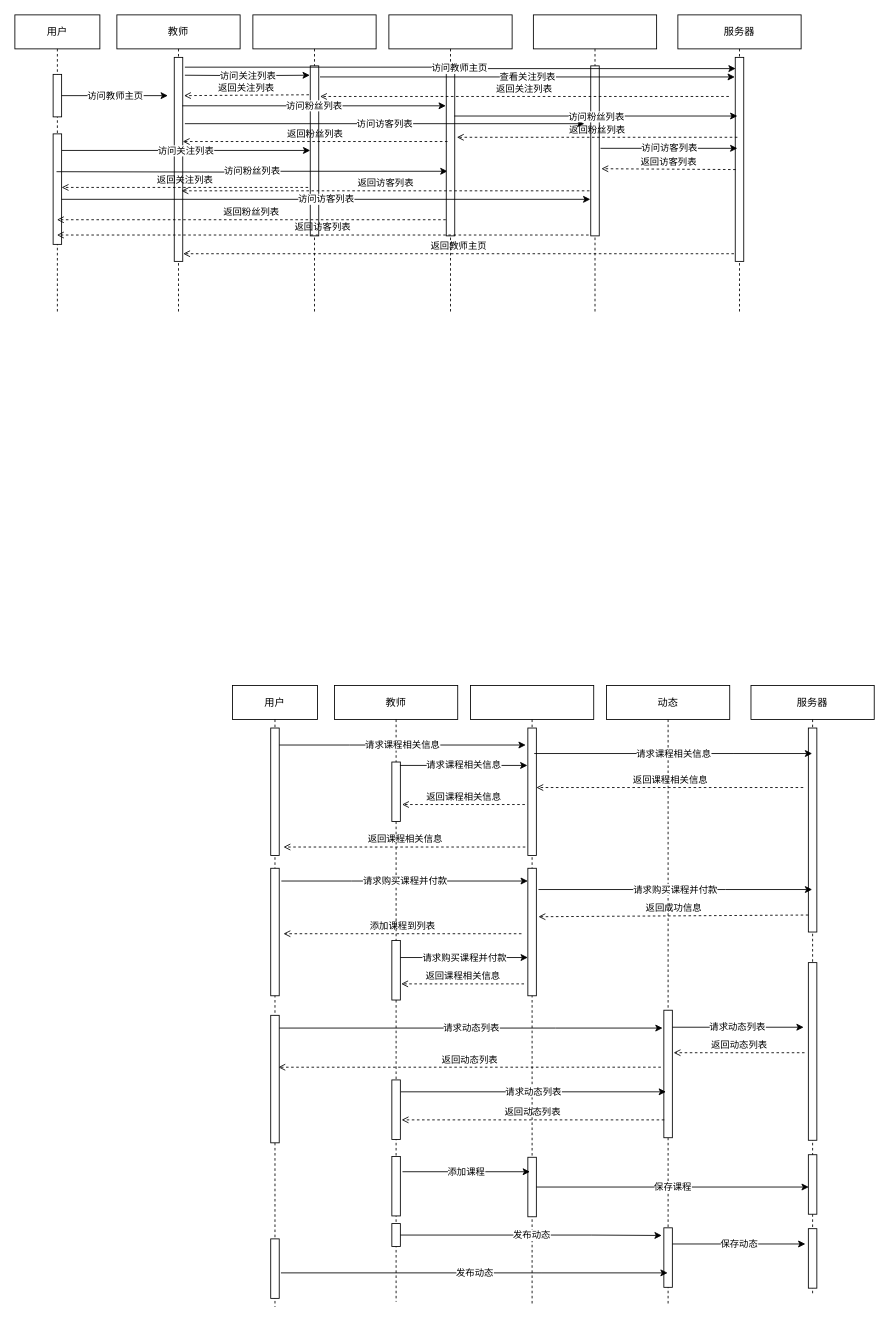
This 889x1322 diagram has some shape labels left out. The box of each missing label's shape, as (x1, y1, x2, y2) in pixels:
关注: (252, 14, 376, 312)
粉丝: (388, 14, 512, 312)
访客: (533, 14, 657, 312)
课程: (470, 685, 594, 1304)
